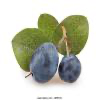Blueberry leaf: (51, 12, 92, 54)
